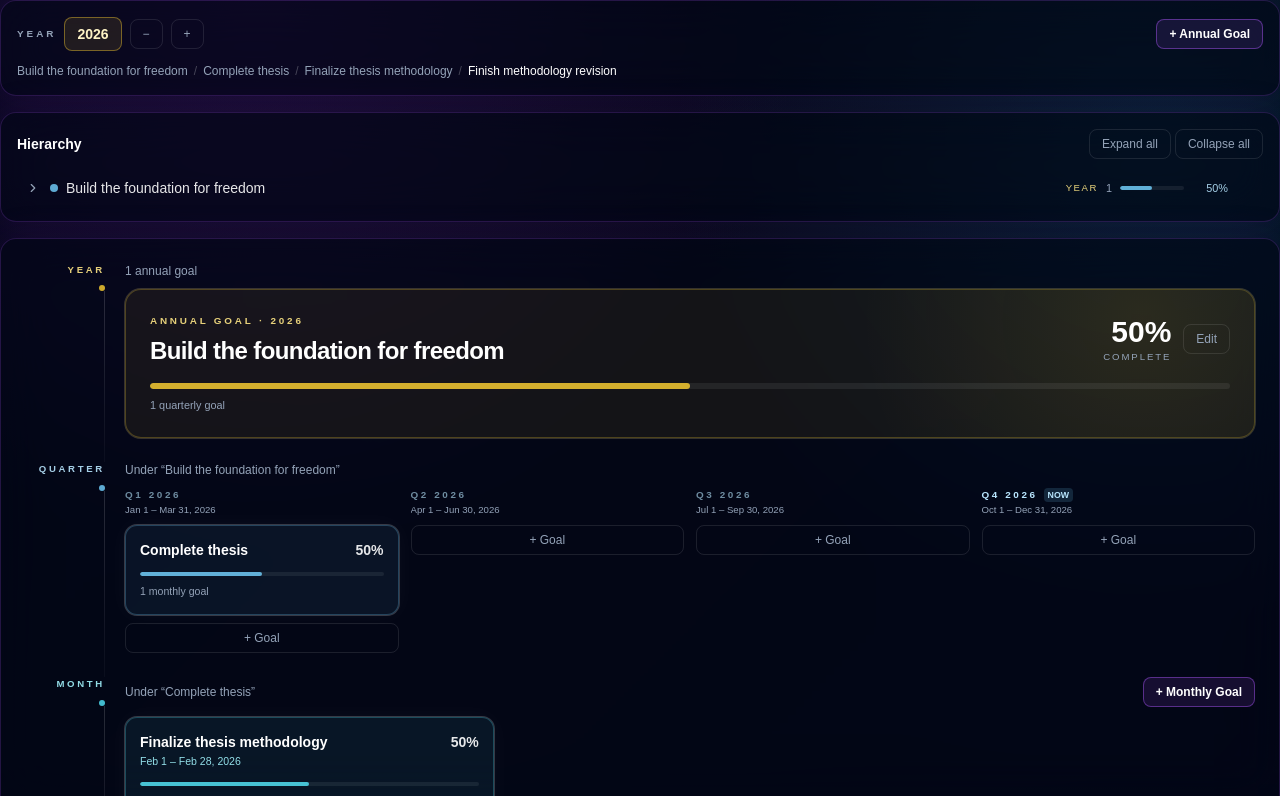
Test case: GoalHierarchyView › steps back to the previous year
Check: the element with test id "year-card-year-1" is shown, box left=125, top=289, right=1255, bottom=438
What coordinates should you click on to do the following:
click the button named "Previous year"
I would click on:
 (146, 34)
Its box is left=130, top=19, right=163, bottom=49.
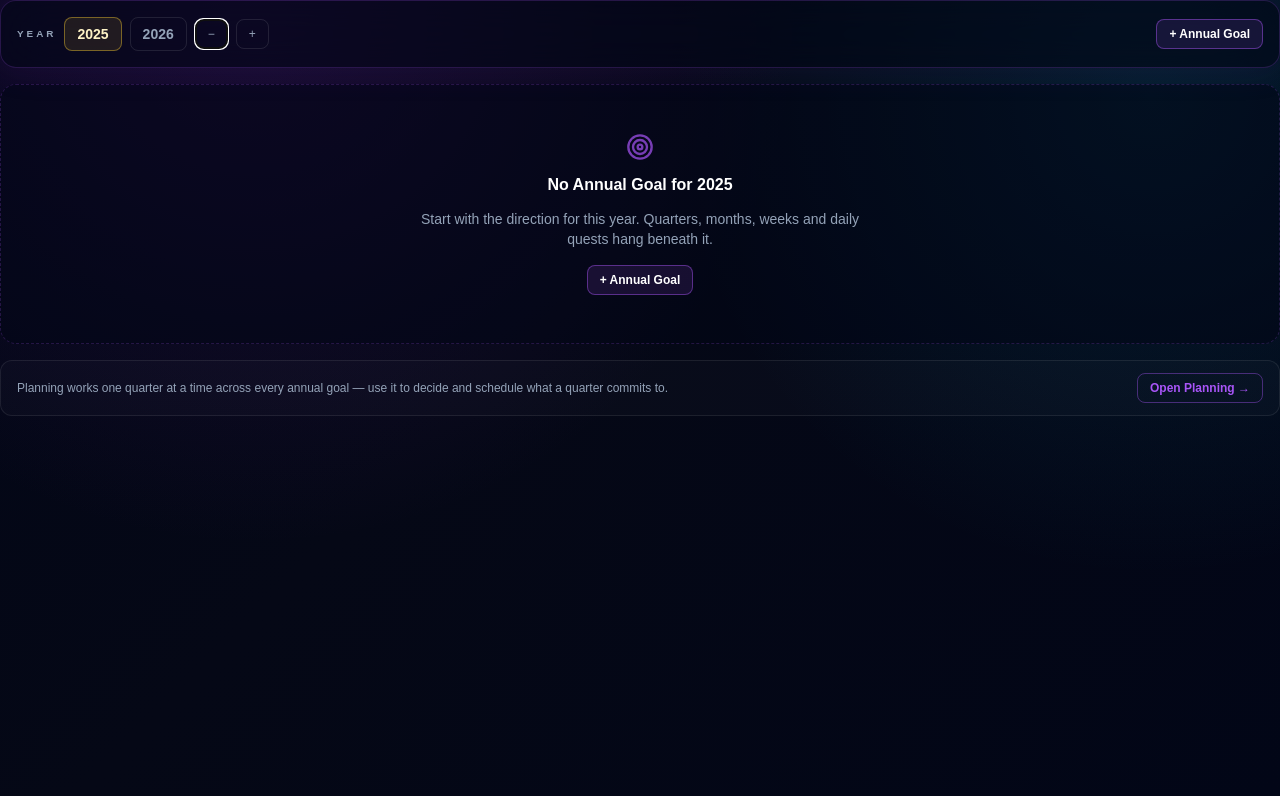
Check: the button "2025" is shown, box left=64, top=17, right=122, bottom=51
Check: the element with test id "hierarchy-empty" is shown, box left=0, top=84, right=1279, bottom=344
